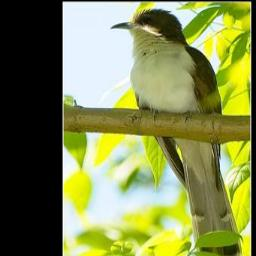Cuckoo: (110, 8, 244, 256)
